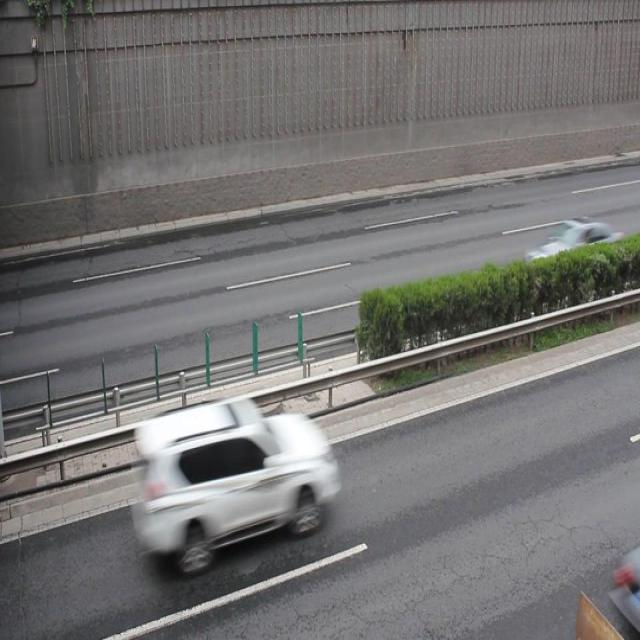car: (130, 394, 337, 566), (527, 215, 623, 292), (608, 543, 640, 633)
